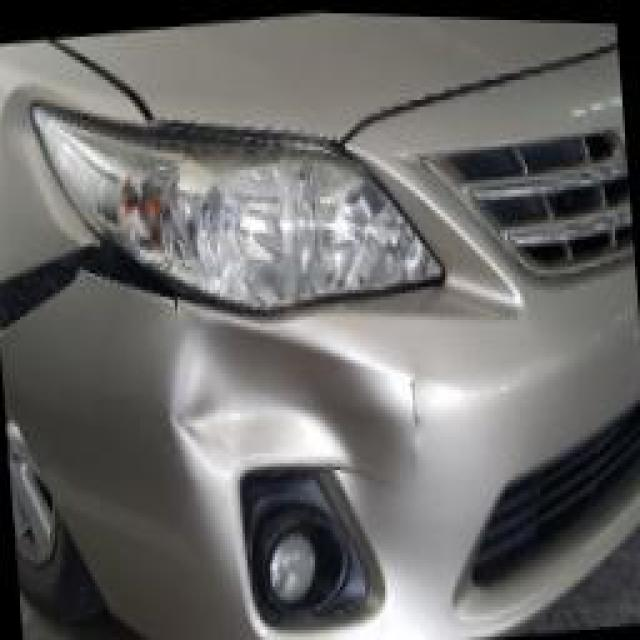Bumper: (138, 253, 442, 563)
